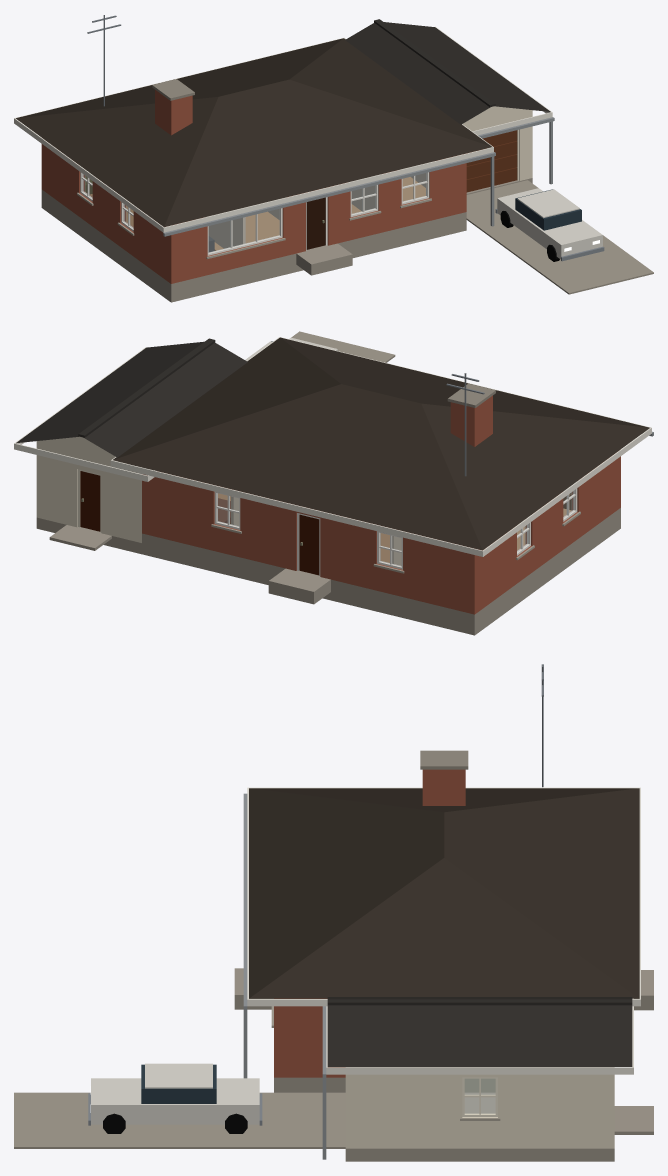
File: ranch.glb
3 views of the same model, one above another, from view 1: azimuth 30°, elevation 25°; view 2: azimuth 150°, elevation 25°; view 3: azimuth 270°, elevation 25° (orthographic). The views are drawn at different scales.
Visible parts, largest first — view 1: LOD0, LEAF0; view 2: LOD0, LEAF1, LEAF2; view 3: LOD0.
Boxes of the visible parts, x1,y1,x2,y2 form: LOD0: (14,15,653,302); LEAF0: (306,197,325,249); LOD0: (14,331,653,635); LEAF1: (299,514,319,575); LEAF2: (80,471,100,531); LOD0: (14,664,653,1161).
Size of what is drawn, in the model's own units: 17.77 by 8.27 by 17.85.
